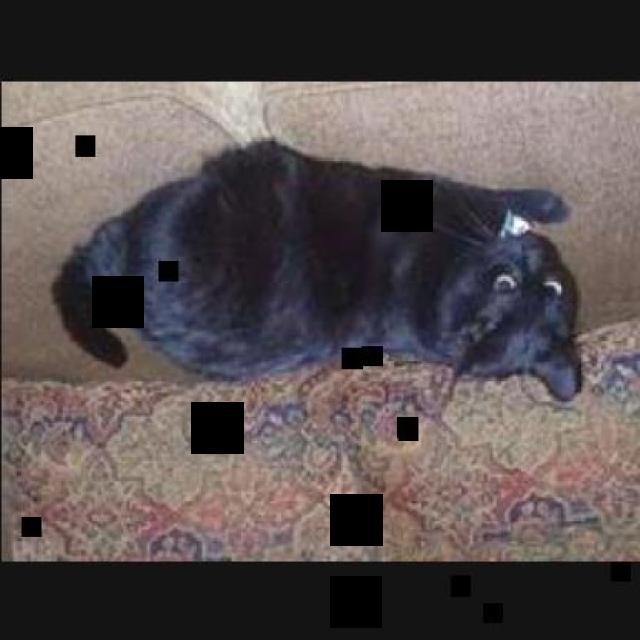unauthorized: (51, 136, 583, 402)
